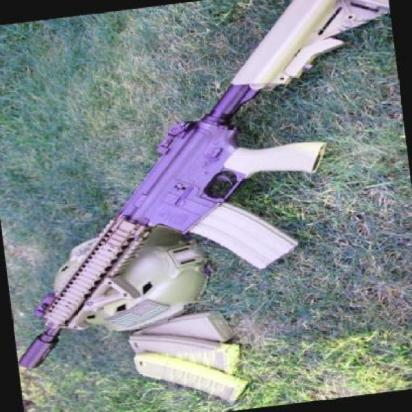Gun: (0, 0, 412, 379)
